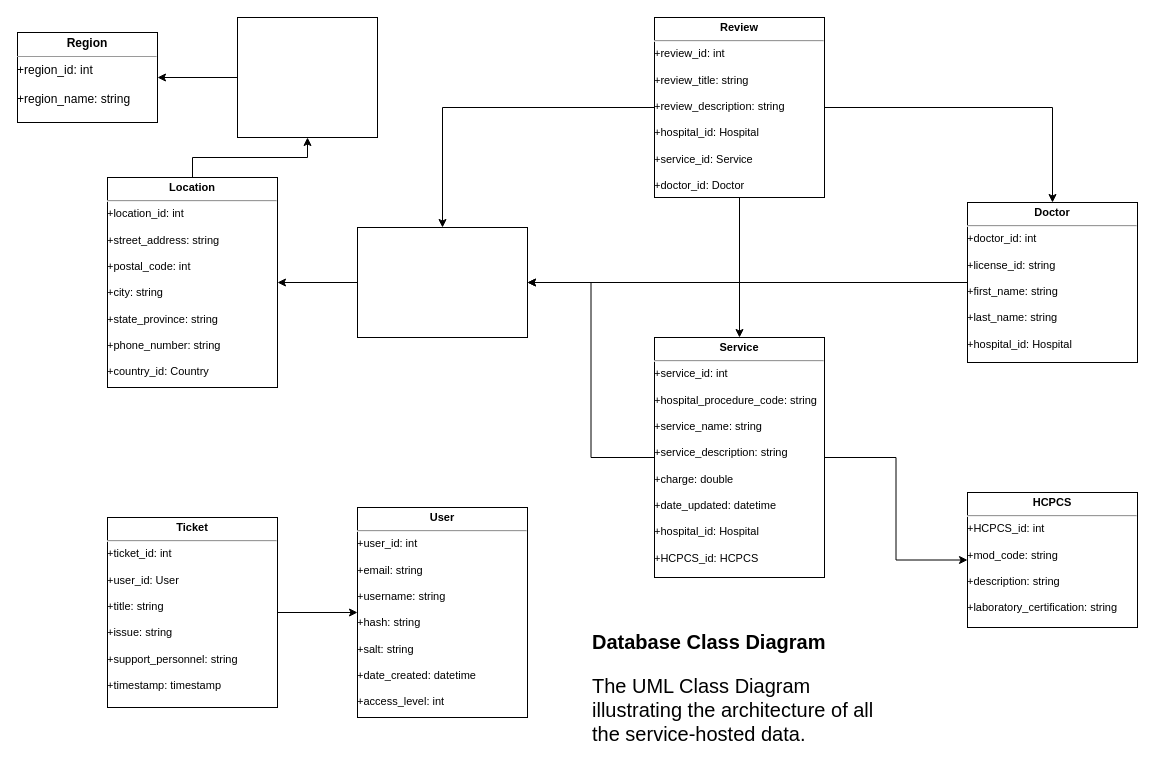
Image size: 1155x765. Some labels were removed from this diagram. Here are the shapes that lost their labels. From the top down, the centre of each, then its label:
At point (307, 77): "Country +country_id: int +country_name: string +region_id: Region".
At point (442, 282): "Hospital +hospital_id: int +hospital_name: string +location_id: Location".
